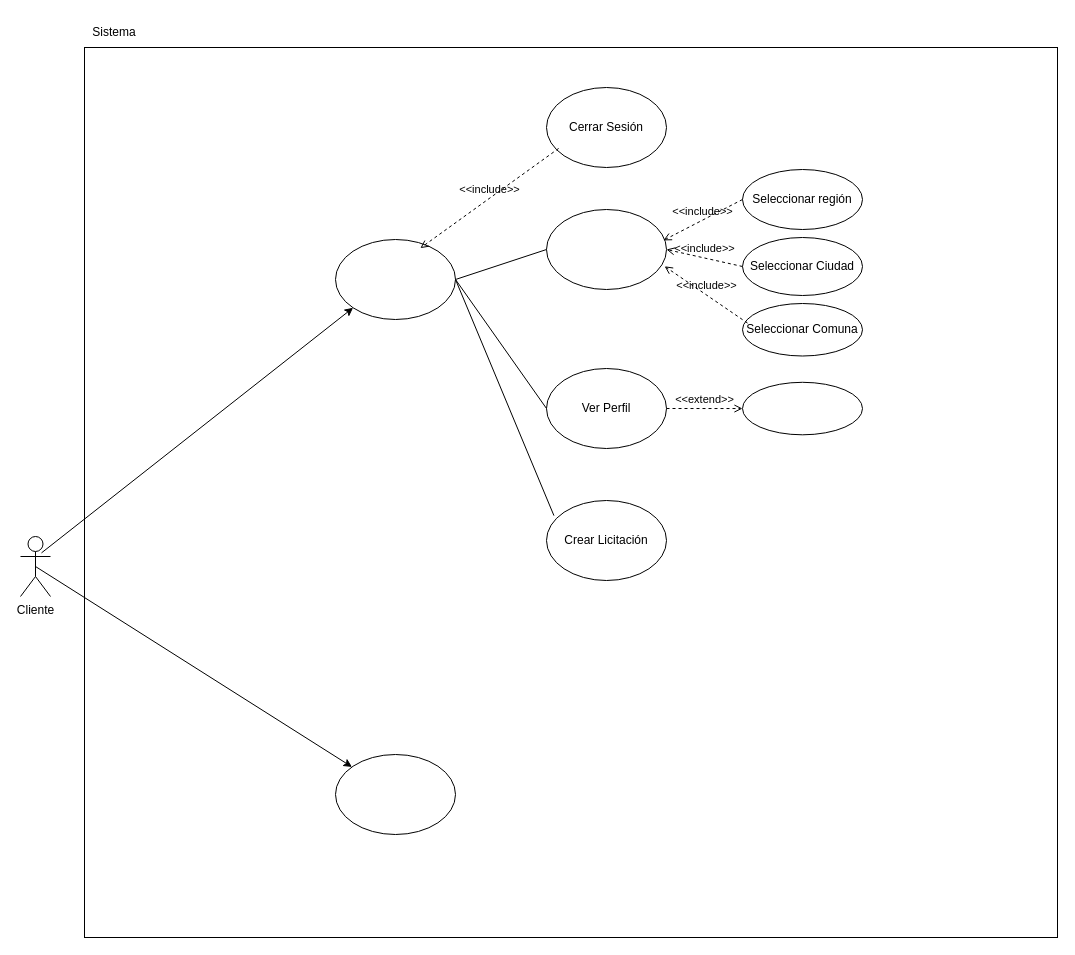
Image size: 1075x955. Some labels were removed from this diagram. Here are the shapes that lost their labels. From the top down, the centre of each, then its label:
At point (606, 249): "Buscar Maestros".
At point (395, 279): "Inicio de sesión".
At point (802, 408): "Enviar Mensaje".
At point (395, 794): "Registro".
